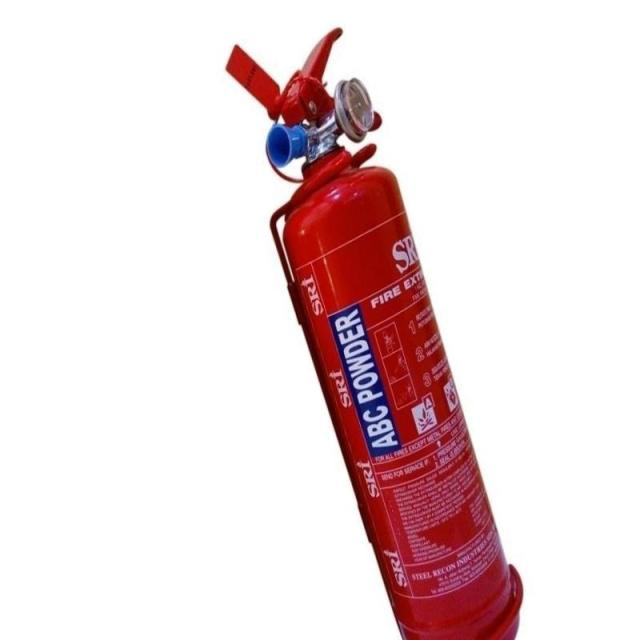fire_extinguisher: (219, 22, 531, 640)
